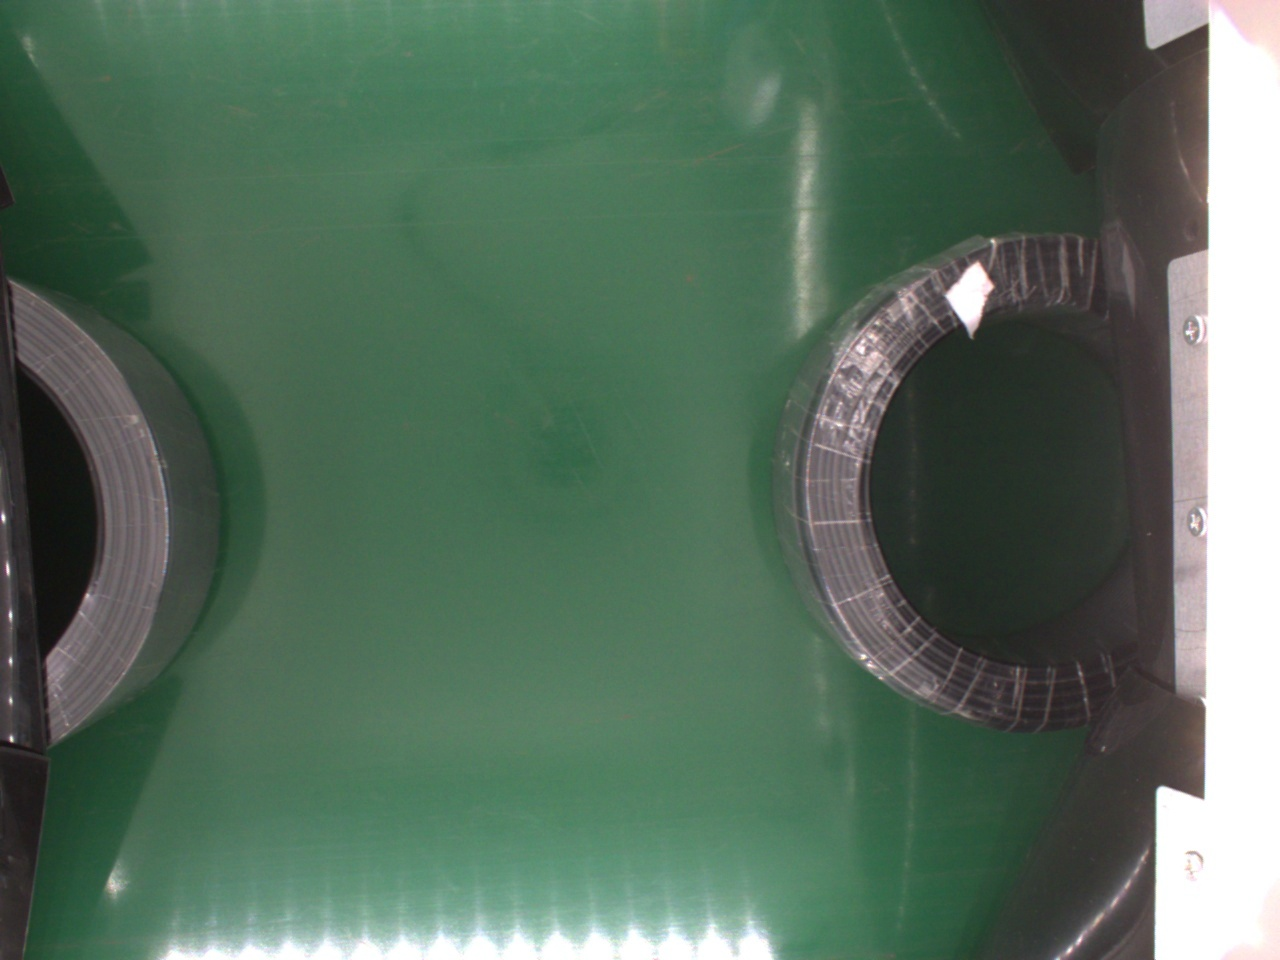black: (774, 227, 1146, 734), (9, 275, 224, 751)
